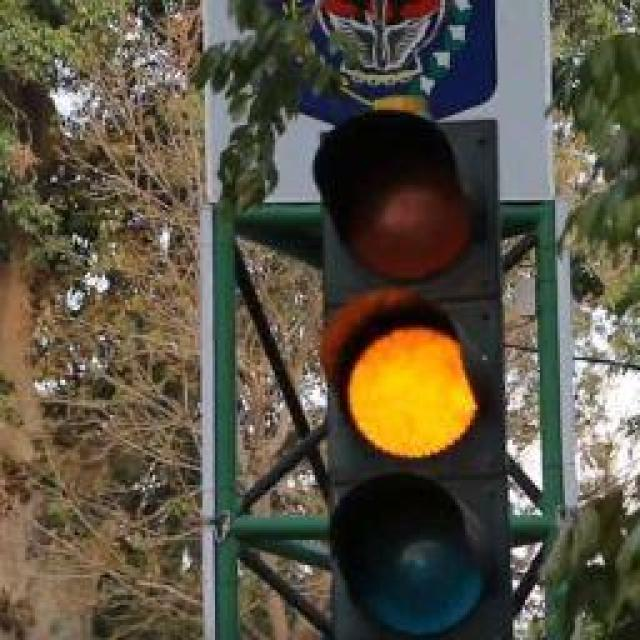yellow_light: (318, 120, 513, 640)
